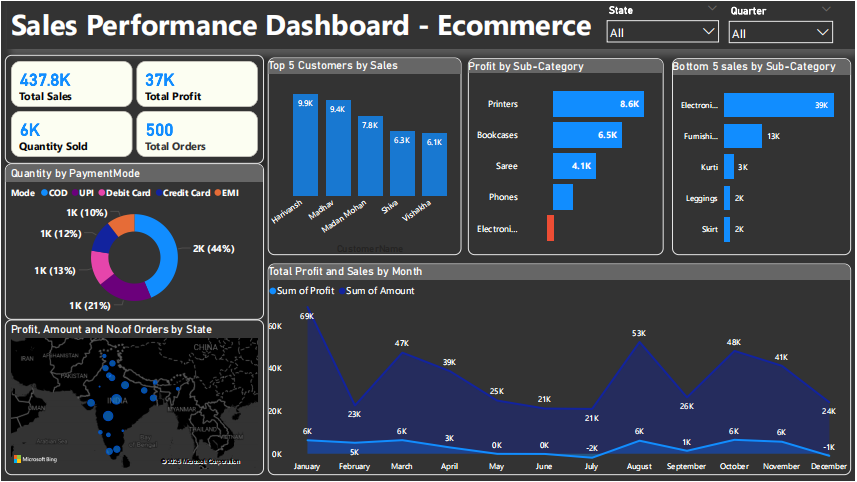

What the dashboard file says about the page in this screenshot:
{"tool":"powerbi","page":{"name":"Sales Performance","canvas":[1280,720],"ordinal":0},"visuals":[{"type":"cardVisual","title":"bhjb","fields":{"Data":["Details.Amount","Details.Profit","Details.Total quantity sold","Details.No.of Orders"]},"box":[5.7,80.8,388.3,163],"z":0},{"type":"donutChart","title":"Quantity by PaymentMode","fields":{"Category":["Details.PaymentMode"],"Y":["Details.Quantity"]},"box":[5.7,243.8,388.3,233.9],"z":1000},{"type":"barChart","title":"Profit by Sub-Category","fields":{"Category":["Details.Sub-Category"],"Y":["Details.Profit"]},"box":[700.5,85.7,292.3,295.6],"z":2000},{"type":"textbox","box":[9.9,0,1269.9,70.9],"z":3000},{"type":"columnChart","title":"Top 5 Customers by Sales","fields":{"Category":["Orders.CustomerName"],"Y":["Details.Amount"]},"box":[399.7,85,290.6,296.2],"z":4000},{"type":"slicer","fields":{"Values":["Orders.State"]},"box":[902.8,0,178.6,70.9],"z":5000},{"type":"slicer","fields":{"Values":["Orders.Quarter"]},"box":[1081.4,0,175.7,70.9],"z":6000},{"type":"map","title":"Profit, Amount and No.of Orders by State","fields":{"Category":["Orders.State"],"Size":["Details.Profit"]},"box":[5.7,477.6,388.3,233.9],"z":7000},{"type":"lineChart","title":"Total Profit and Sales by Month ","fields":{"Category":["Orders.Month Name"],"Y":["Details.Profit","Details.Amount"]},"box":[399.7,394,874.5,317.5],"z":8000},{"type":"barChart","title":"  Bottom 5 sales by Sub-Category","fields":{"Y":["Details.Amount"],"Category":["Details.Sub-Category"]},"box":[1006.2,85.7,268,295.6],"z":9001}]}

Visuals, with their boxes in screenshot pixels (x1, y1, x2, y2), scaled from the page's 1280x720 canvas onto the 857x482 screenshot:
"bhjb" cardVisual: [x1=4, y1=54, x2=264, y2=163]
"Quantity by PaymentMode" donutChart: [x1=4, y1=163, x2=264, y2=320]
"Profit by Sub-Category" barChart: [x1=469, y1=57, x2=665, y2=255]
textbox: [x1=7, y1=0, x2=856, y2=47]
"Top 5 Customers by Sales" columnChart: [x1=268, y1=57, x2=462, y2=255]
slicer - Orders.State: [x1=604, y1=0, x2=724, y2=47]
slicer - Orders.Quarter: [x1=724, y1=0, x2=842, y2=47]
"Profit, Amount and No.of Orders by State" map: [x1=4, y1=320, x2=264, y2=476]
"Total Profit and Sales by Month " lineChart: [x1=268, y1=264, x2=853, y2=476]
"  Bottom 5 sales by Sub-Category" barChart: [x1=674, y1=57, x2=853, y2=255]
